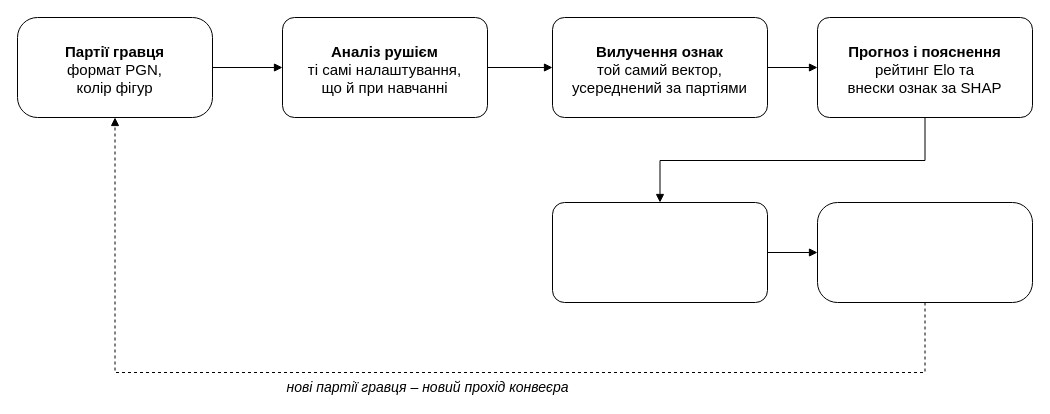
Some shapes in this 1050 by 414 pixel diagram are drawn without their labels. Here are the shapes that lost their labels. From the top down, the centre of each, then its label:
point (660, 252): Напрями тренування нормування внесків, k = 3 за формулою (2.7)
point (924, 252): Тренувальні задачі з бази Lichess, за темою і рівнем
